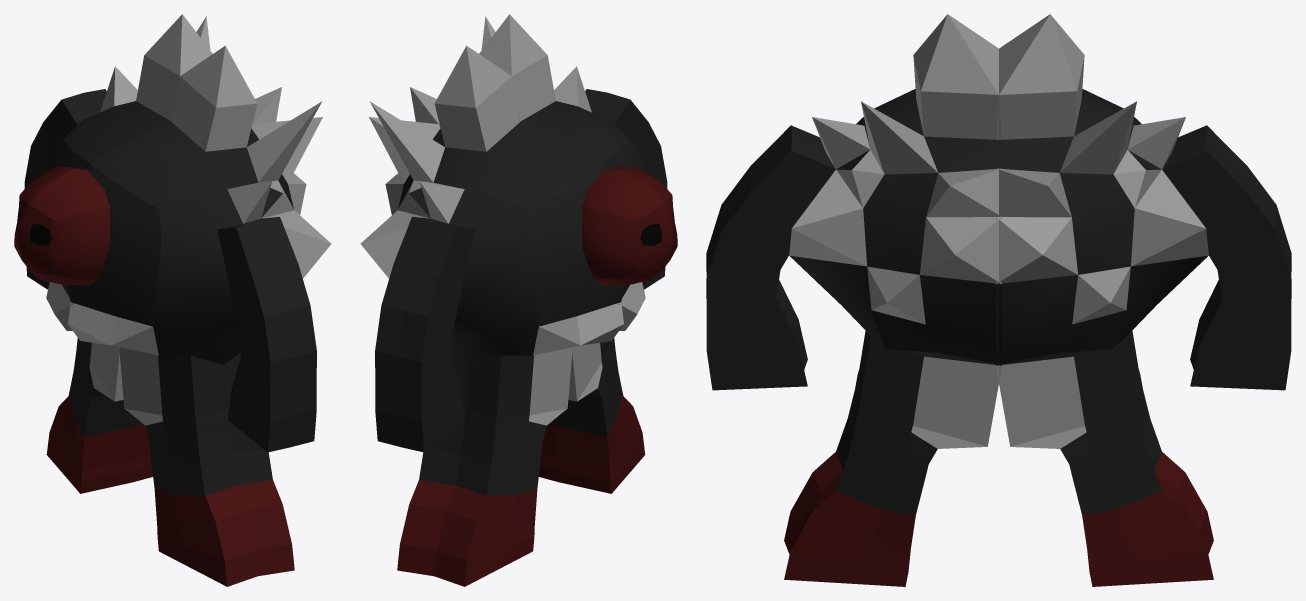
The model's file is enemigoMele.fbx.
3 views of the same model, side by side, from view 1: azimuth 30°, elevation 25°; view 2: azimuth 150°, elevation 25°; view 3: azimuth 270°, elevation 25° (orthographic). The views are drawn at different scales.
Parts seen in each view (by area): view 1: Box002; view 2: Box002; view 3: Box002.
Boxes of the visible parts, x1,y1,x2,y2 form: Box002: [14, 14, 331, 586]; Box002: [360, 14, 677, 586]; Box002: [706, 14, 1291, 586].
Size of the model in its own units: 0.3064 by 0.4596 by 0.4896.
